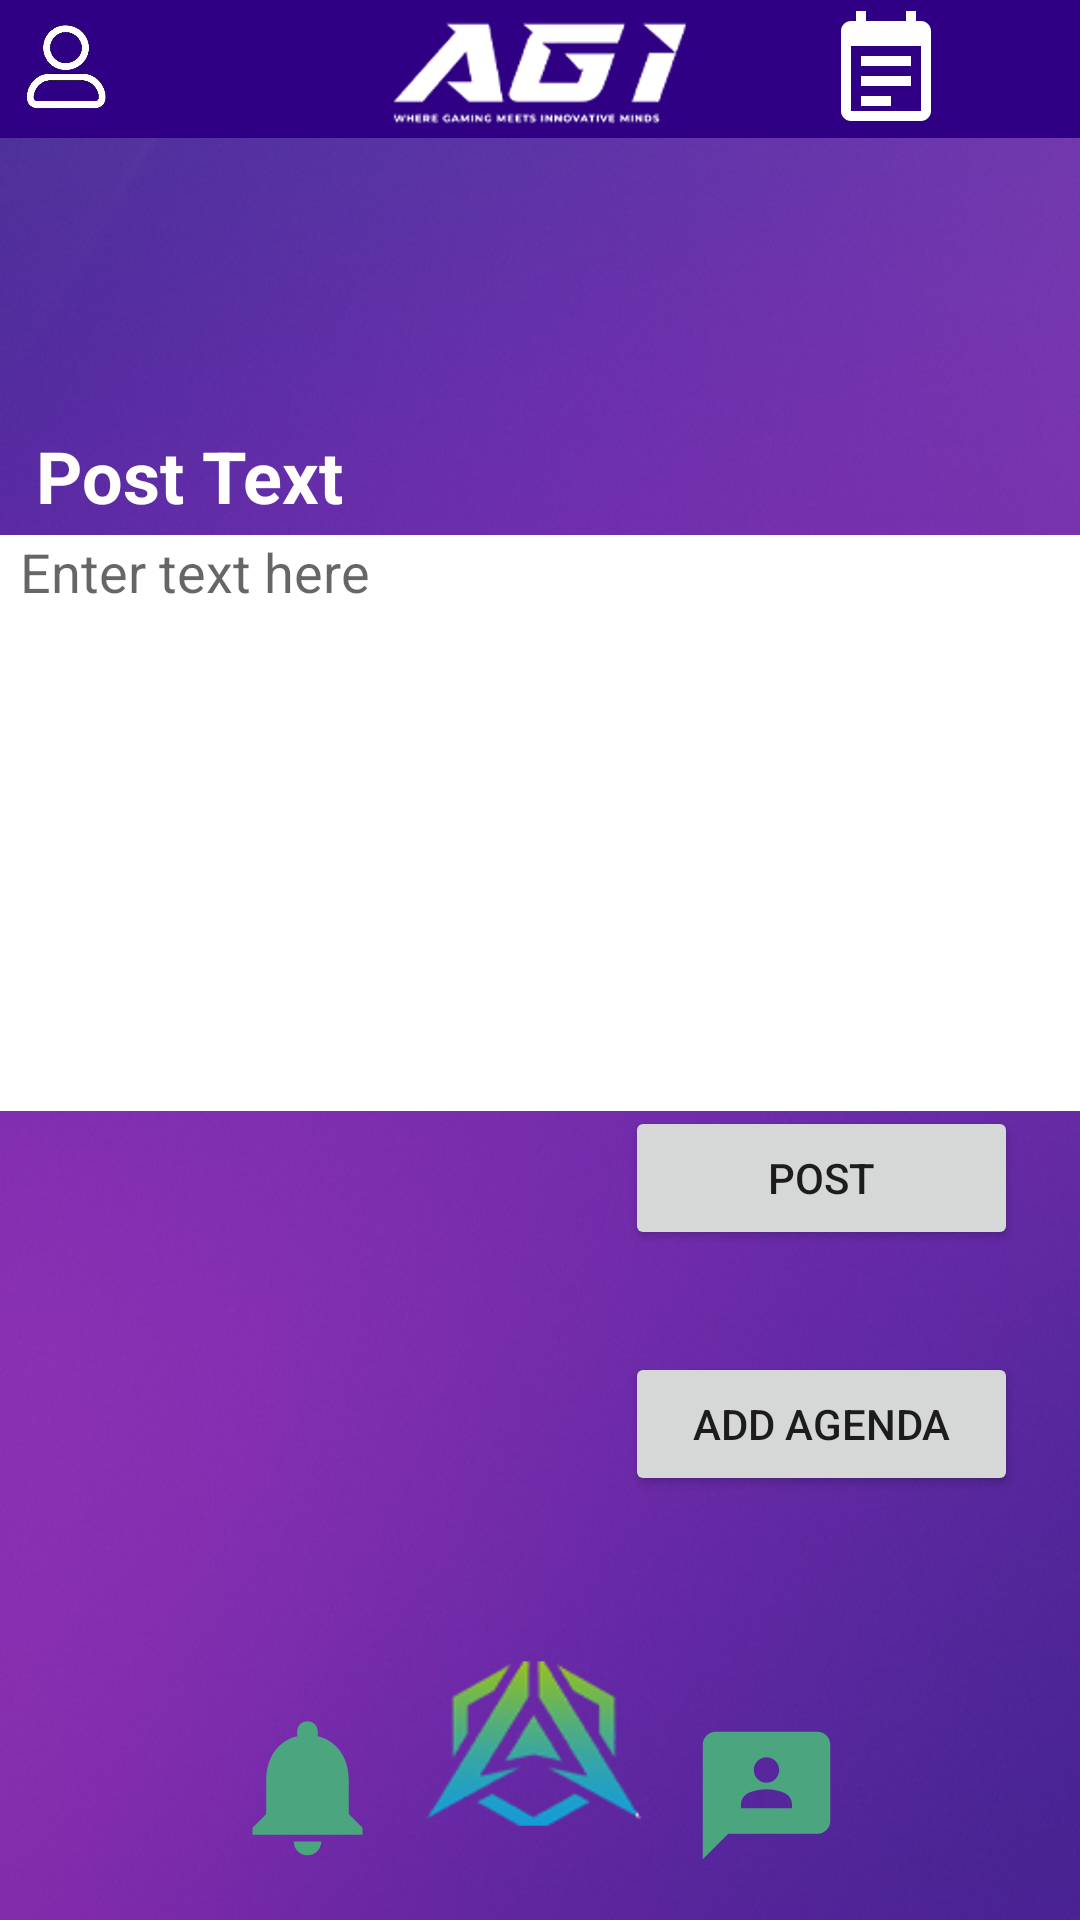

Named icons in this screenshot (1080*1920) and their centers, (x,y):
agenda: (886,66)
directicon: (766,1795)
notifications: (307,1788)
profileicon: (66,66)
